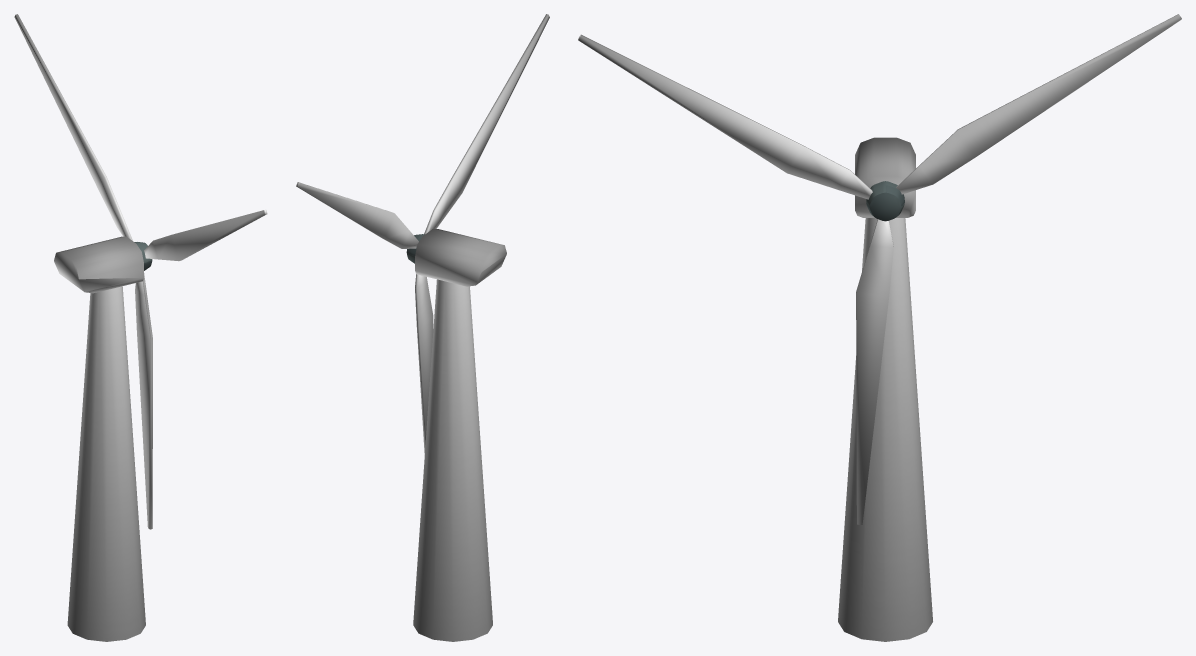
Rendered from Windmill.fbx.
The picture shows the model from 3 angles, left to right: view 1: azimuth 30°, elevation 25°; view 2: azimuth 150°, elevation 25°; view 3: azimuth 270°, elevation 25°; orthographic projection. The views are drawn at different scales.
Visible parts, largest first — view 1: Circle, Plane, Cube; view 2: Circle, Plane, Cube; view 3: Circle, Plane, Cube, Cone.
Boxes of the visible parts, x1,y1,x2,y2 form: Circle: [67, 286, 145, 641]; Plane: [14, 14, 267, 529]; Cube: [54, 236, 143, 293]; Circle: [413, 279, 492, 641]; Plane: [296, 14, 549, 454]; Cube: [415, 229, 506, 286]; Circle: [838, 218, 932, 641]; Plane: [578, 14, 1181, 524]; Cube: [855, 137, 915, 217]; Cone: [866, 181, 904, 221].
Bounding box in the file's own units: 67.67 × 398 × 348.
1 material, 1 textured.
